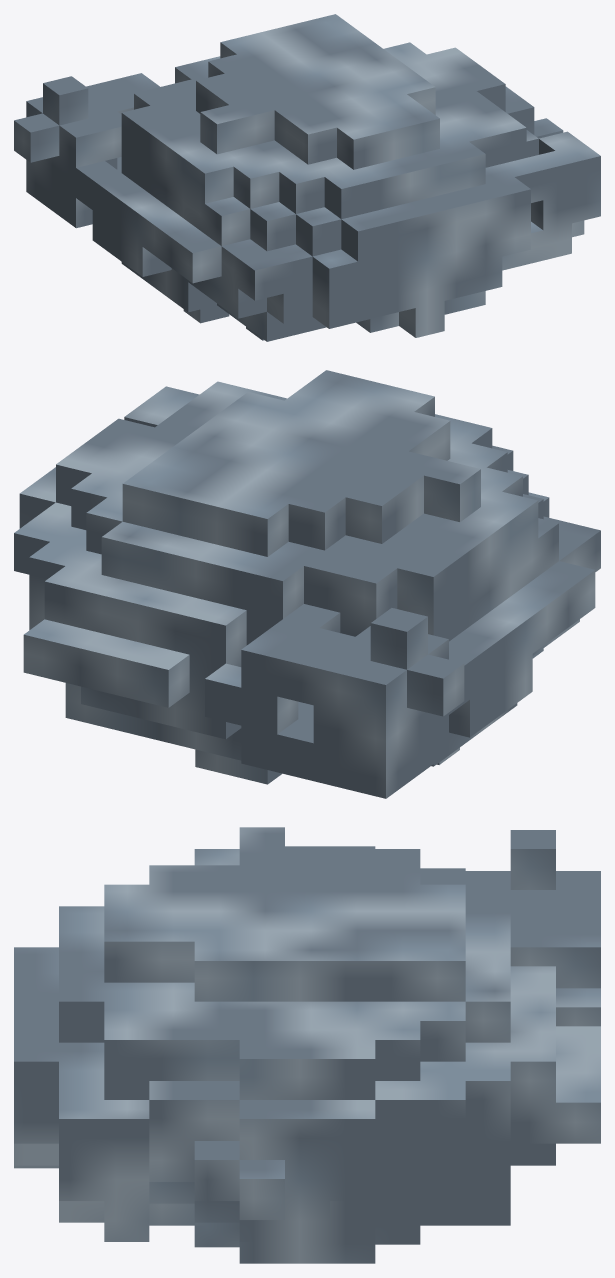
The model's file is Rock.fbx.
3 views of the same model, one above another, from view 1: azimuth 30°, elevation 25°; view 2: azimuth 150°, elevation 25°; view 3: azimuth 270°, elevation 25° (orthographic). The views are drawn at different scales.
Parts seen in each view (by area): view 1: Rock.001; view 2: Rock.001; view 3: Rock.001.
Part boxes in pixels (x1,y1,x2,y2): Rock.001: (14,14,600,341); Rock.001: (14,370,600,798); Rock.001: (14,827,600,1263).
Bounding box in the file's own units: 122 × 57.13 × 106.
Materials: 1 (1 with a texture image).
